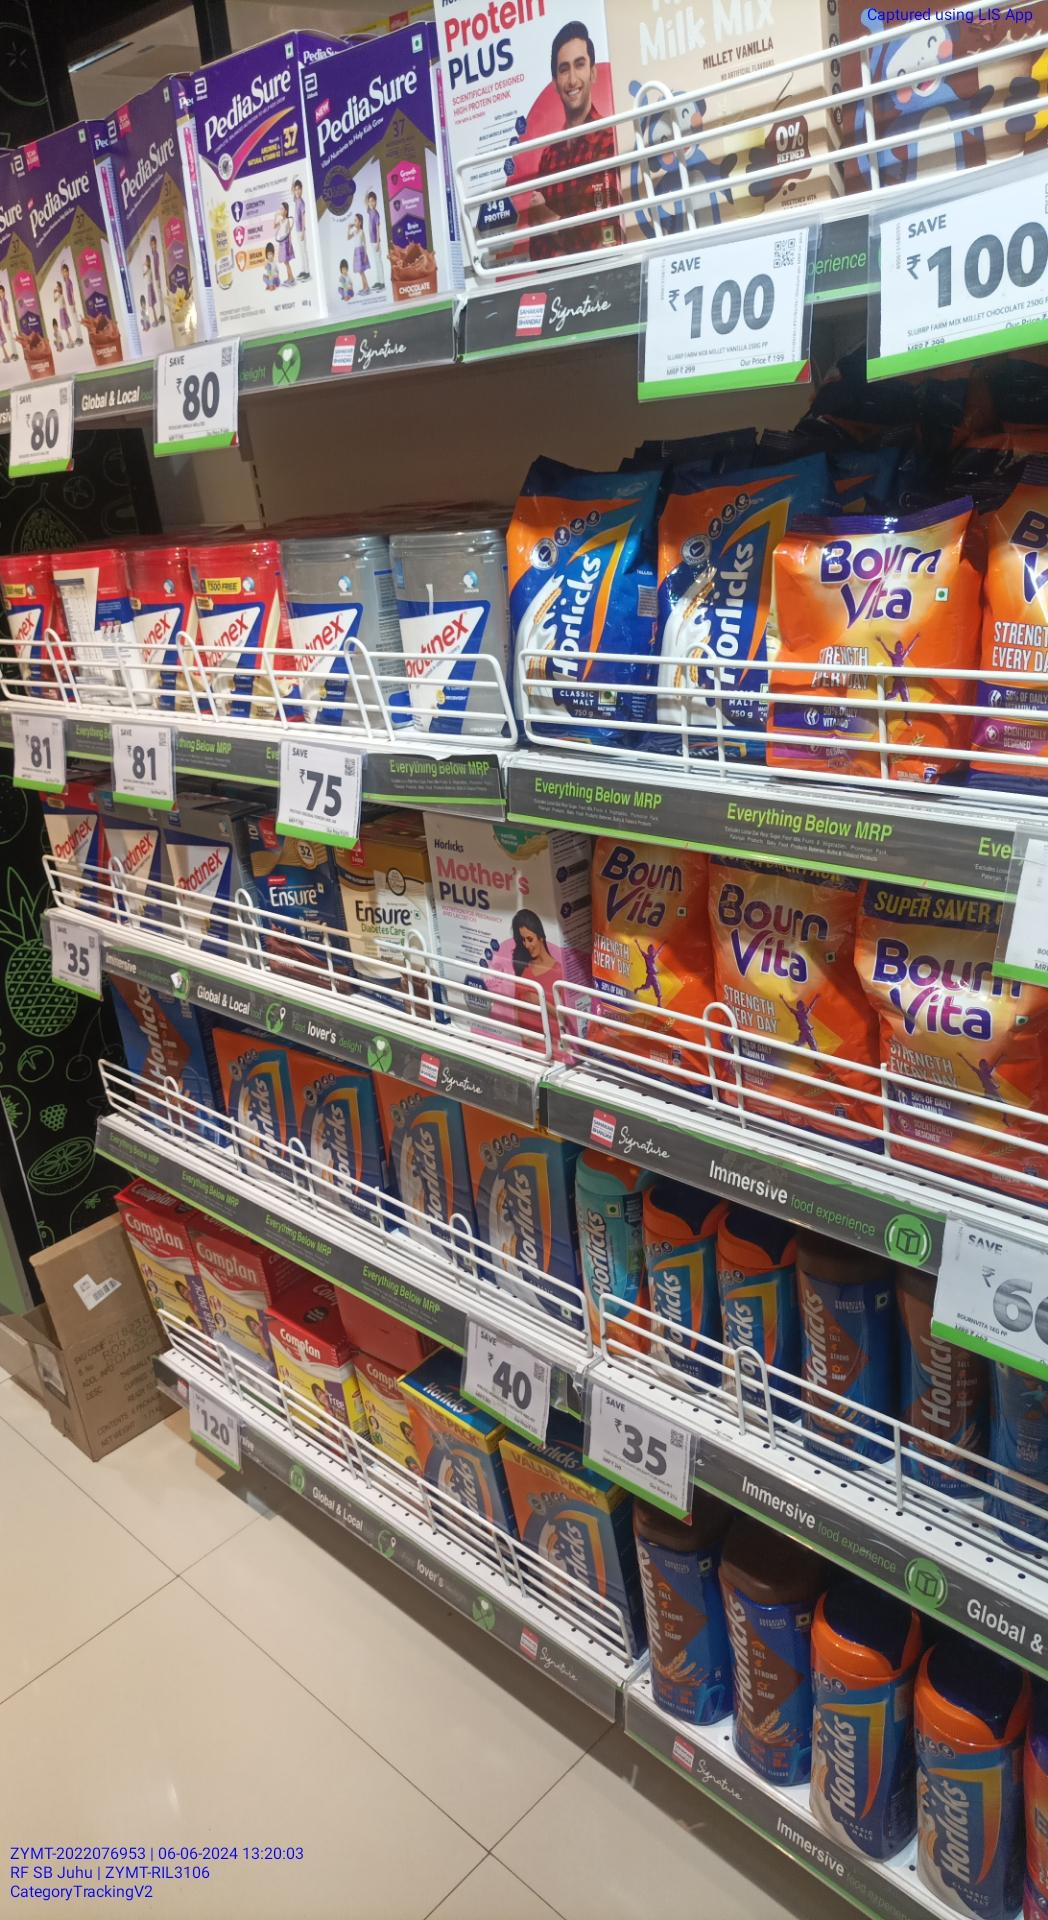HORLICK_CHOCOLATE_1_KG_JAR: (638, 1492, 716, 1741), (724, 1538, 801, 1791)
HORLICK_CHOCOLATE_500_G_JAR: (804, 1239, 897, 1468)
HORLICK_CLASSIC_MALT_500_G_JAR: (718, 1204, 792, 1421), (644, 1175, 712, 1405)
